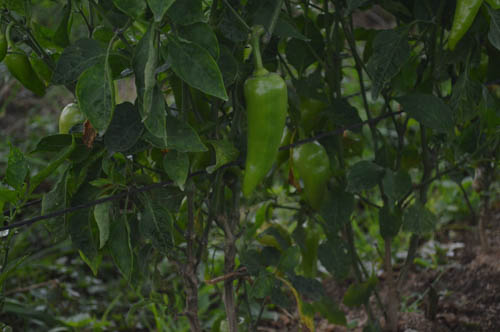ChiliPepper: (244, 72, 291, 203), (292, 143, 333, 208)
